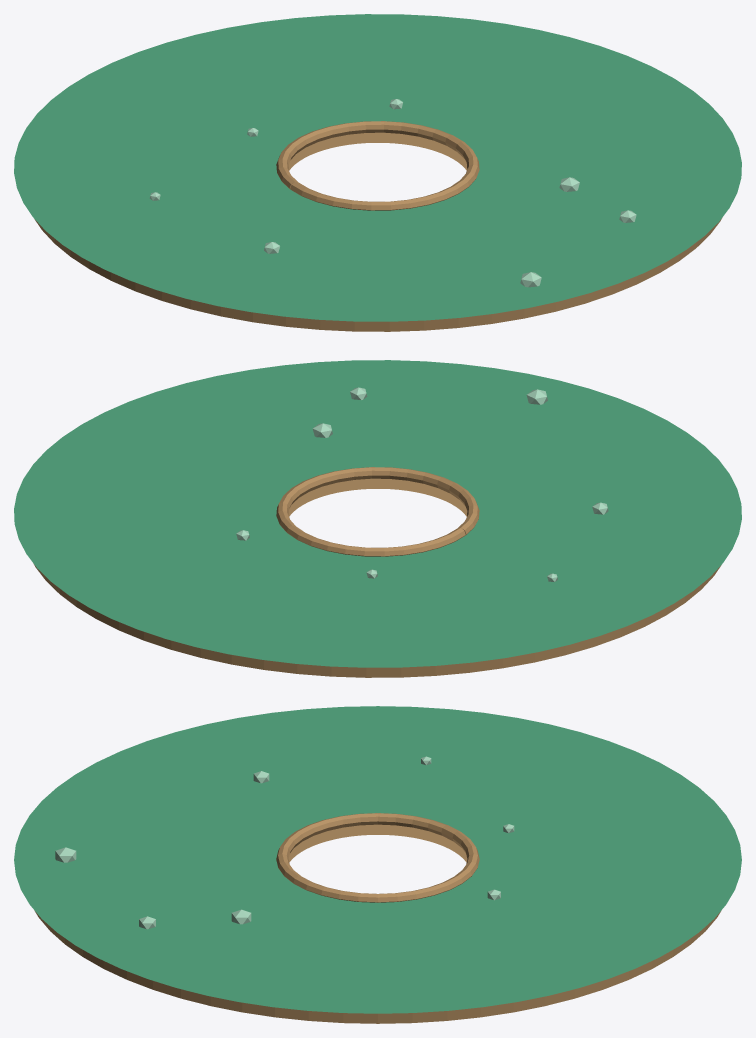
File: goo_jar_deck_3.fbx
3 views of the same model, one above another, from view 1: azimuth 30°, elevation 25°; view 2: azimuth 150°, elevation 25°; view 3: azimuth 270°, elevation 25° (orthographic).
Visible parts, largest first — view 1: goo_jar_deck_3; view 2: goo_jar_deck_3; view 3: goo_jar_deck_3.
Part boxes in pixels (x1=…): goo_jar_deck_3: x1=14, y1=14, x2=741, y2=331; goo_jar_deck_3: x1=14, y1=360, x2=741, y2=677; goo_jar_deck_3: x1=14, y1=706, x2=741, y2=1023.
Bounding box in the file's own units: 47.2 × 1.79 × 47.2.
